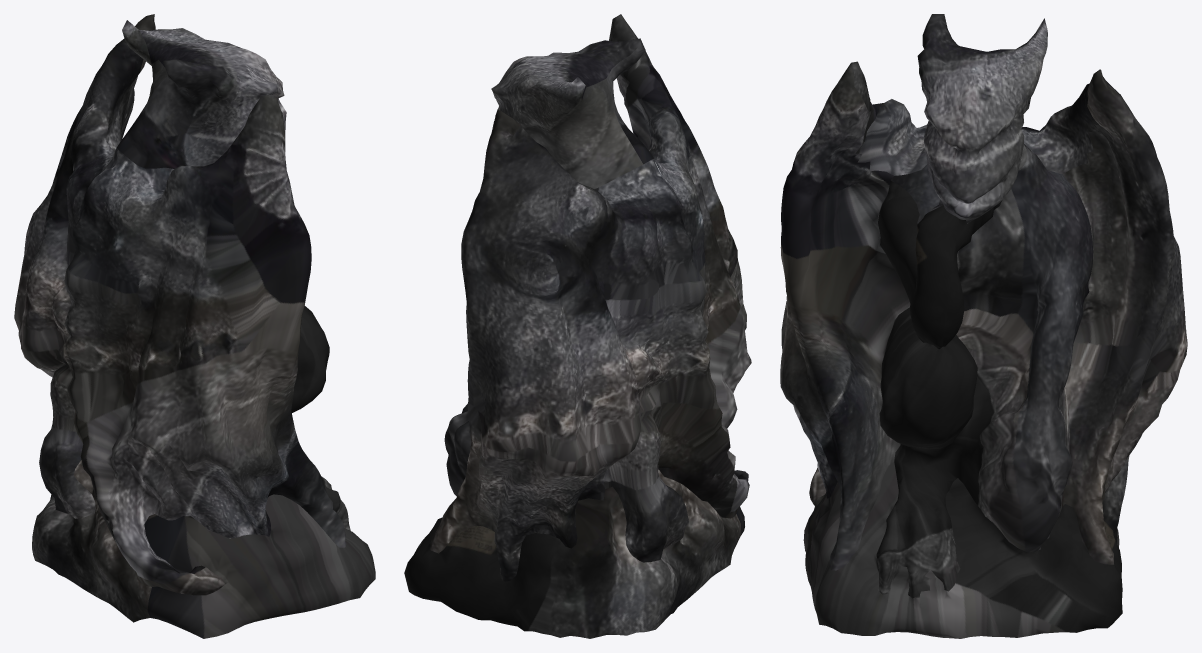
The picture shows the model from 3 angles, left to right: view 1: azimuth 30°, elevation 25°; view 2: azimuth 150°, elevation 25°; view 3: azimuth 270°, elevation 25°; orthographic projection. The views are drawn at different scales.
Visible parts, largest first — view 1: g.004, g.006, g, g.005; view 2: g.004, g.006, g, g.005; view 3: g.004, g.005, g.006, g, g.002.
Boxes of the visible parts, x1,y1,x2,y2 form: g.004: (14,14,346,595); g.006: (32,489,375,638); g: (117,20,286,168); g.005: (291,305,350,530); g.004: (430,14,751,581); g.006: (404,469,744,638); g: (491,38,653,188); g.005: (444,187,598,496); g.004: (780,61,1187,570); g.005: (876,143,1093,598); g.006: (803,461,1122,638); g: (917,14,1047,223); g.002: (878,181,1002,349).
Bounding box in the file's own units: 22.92 × 45.41 × 30.55.
